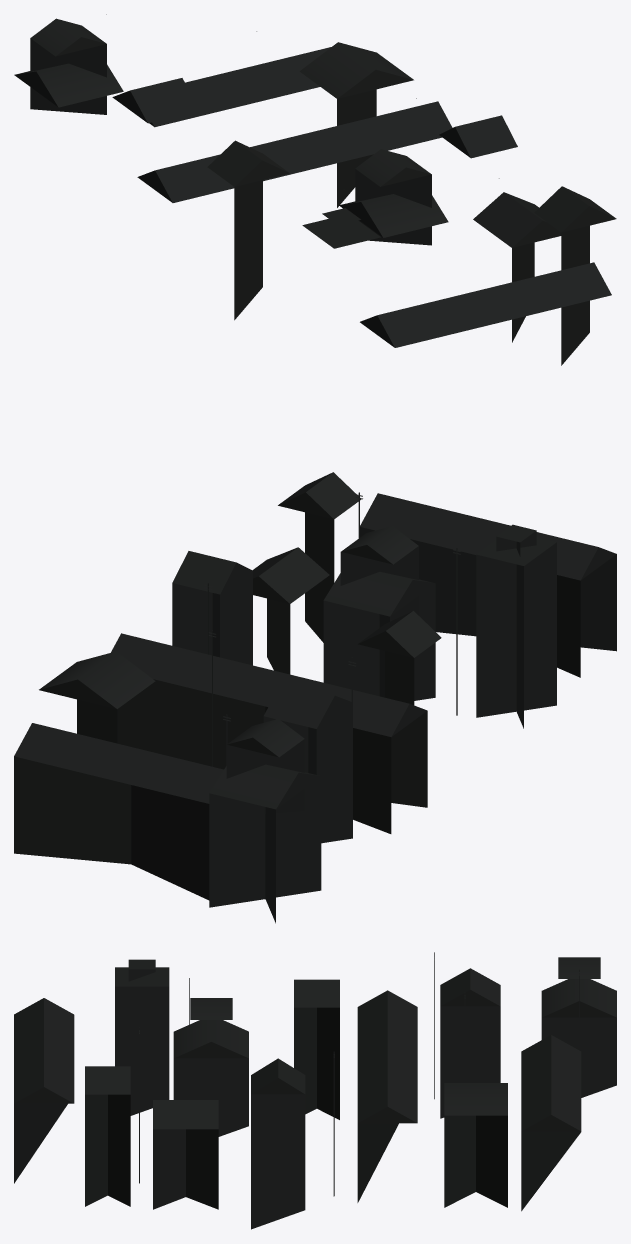
File: AMB_TOWN00.glb
3 views of the same model, one above another, from view 1: azimuth 30°, elevation 25°; view 2: azimuth 150°, elevation 25°; view 3: azimuth 270°, elevation 25° (orthographic). The views are drawn at different scales.
Visible parts, largest first — view 1: obj71, obj79, obj76, obj84, obj74, obj77, obj81; view 2: obj71, obj76, obj81, obj79, obj84, obj74, obj77; view 3: obj71, obj79, obj77, obj74, obj81, obj76, obj84.
Part boxes in pixels (<box>): obj71: <box>14,14,330,127</box>; obj79: <box>339,149,561,342</box>; obj76: <box>137,101,452,202</box>; obj84: <box>360,262,611,347</box>; obj74: <box>112,42,413,207</box>; obj77: <box>207,31,517,320</box>; obj81: <box>302,178,616,365</box>; obj71: <box>14,657,355,923</box>; obj76: <box>111,633,427,833</box>; obj81: <box>278,472,556,728</box>; obj79: <box>252,526,435,700</box>; obj84: <box>360,493,616,677</box>; obj74: <box>39,651,352,843</box>; obj77: <box>172,547,460,766</box>; obj71: <box>434,952,616,1211</box>; obj79: <box>153,998,248,1209</box>; obj77: <box>189,978,465,1229</box>; obj74: <box>440,968,507,1207</box>; obj81: <box>85,959,169,1206</box>; obj76: <box>357,990,417,1202</box>; obj84: <box>14,998,74,1183</box>.
Size of the model in its own units: 192 by 132 by 398.
Materials: 7 (7 with a texture image).
